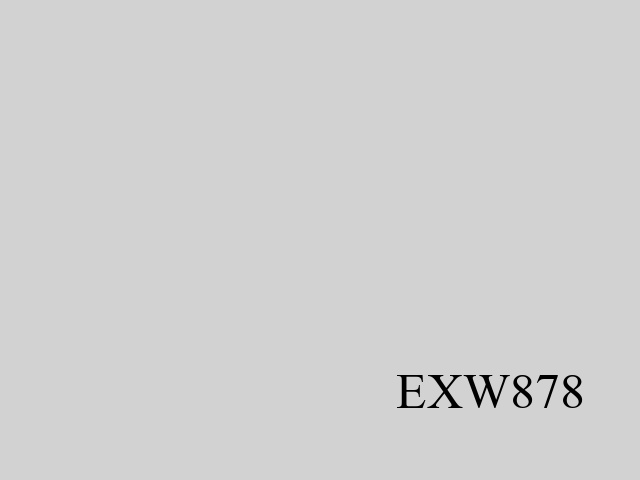OCR_AREA: (392, 371, 589, 412)
